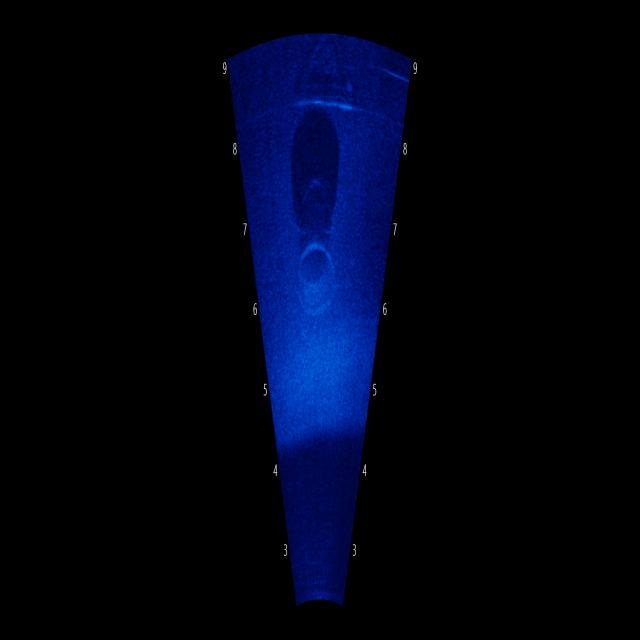circle: (291, 209, 347, 346)
triangle: (284, 41, 368, 131)
